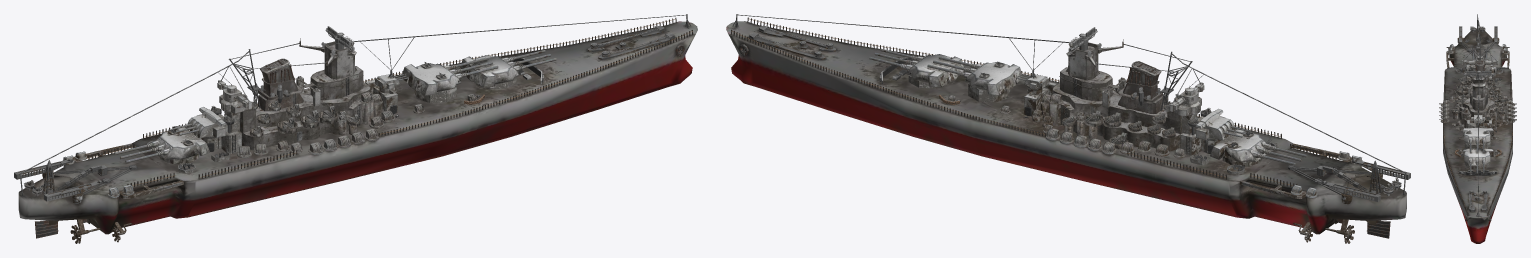
Rendered from warship.glb.
3 renders of one model, left to right at view 1: azimuth 30°, elevation 25°; view 2: azimuth 150°, elevation 25°; view 3: azimuth 270°, elevation 25°, orthographic. The views are drawn at different scales.
Visible parts, largest first — view 1: defaultMaterial (×23); view 2: defaultMaterial (×24); view 3: defaultMaterial (×27).
Boxes of the visible parts, x1,y1,x2,y2 form: defaultMaterial (×23): (14,14,697,243); defaultMaterial (×24): (726,14,1410,243); defaultMaterial (×27): (1439,14,1516,243).
Bounding box in the file's own units: 96.76 × 18.87 × 16.37.
45 materials, 44 textured.
